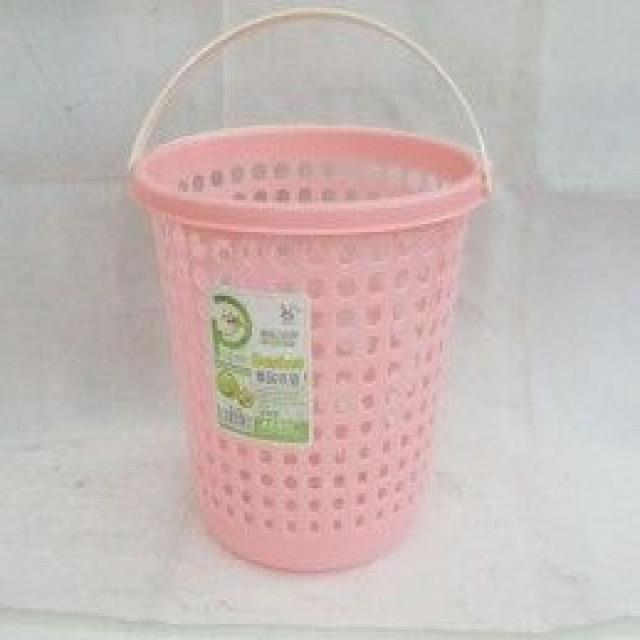Dustbin: (124, 5, 498, 578)
